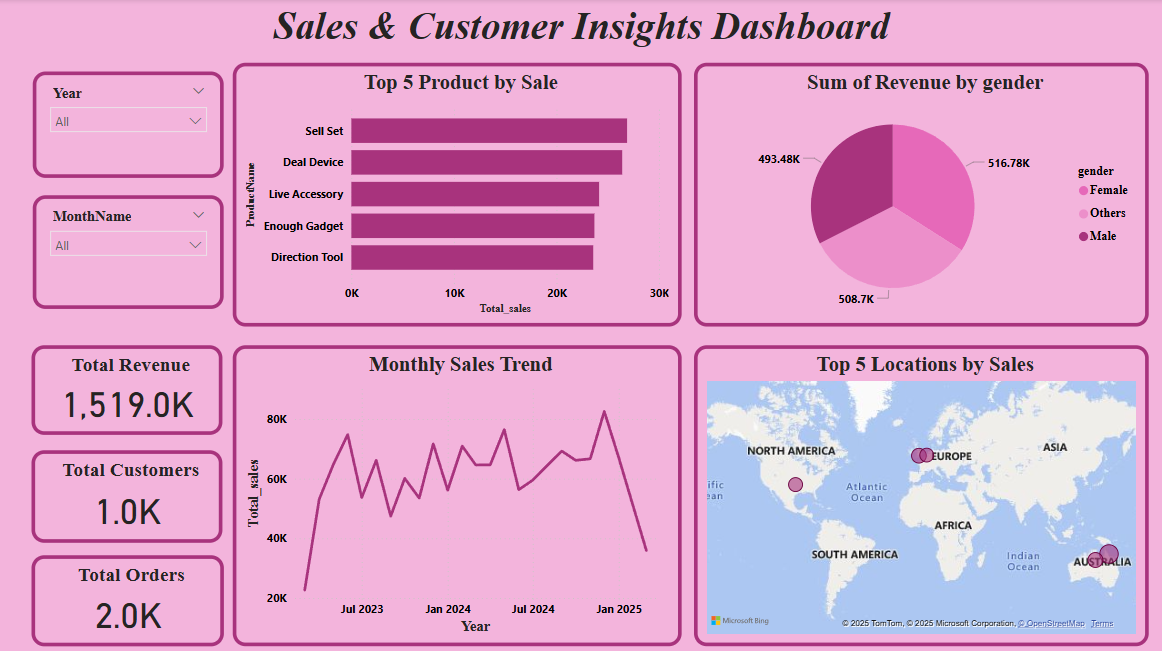

What the dashboard file says about the page in this screenshot:
{"tool":"powerbi","page":{"name":"Dashboard","canvas":[1280,720],"ordinal":0},"visuals":[{"type":"card","title":"Total Revenue","fields":{"Values":["Sum(sales.Revenue)"]},"box":[35.7,380.1,209.9,98.8],"z":0},{"type":"card","title":"Total Customers","fields":{"Values":["Count(customers.Customer_Name)"]},"box":[35.7,495.4,209.9,101.5],"z":1000},{"type":"card","title":"Total Orders","fields":{"Values":["products.Total Orders"]},"box":[35.7,610.6,211.3,100.2],"z":2000},{"type":"textbox","box":[296.4,0,687.5,79.6],"z":3000},{"type":"barChart","title":"Top 5 Product by Sale","fields":{"Category":["products.ProductName"],"Y":["customers.Total_sales"]},"box":[256.6,70,492.6,289.5],"z":4000},{"type":"lineChart","title":"Monthly Sales Trend","fields":{"Y":["customers.Total_sales"],"Category":["DateTable.Date.Variation.Date Hierarchy.Year","DateTable.Date.Variation.Date Hierarchy.Month"]},"box":[256.6,380.1,492.6,330.7],"z":5000},{"type":"pieChart","fields":{"Category":["customers.gender"],"Y":["Sum(sales.Revenue)"]},"box":[763,70,499.5,289.5],"z":6000},{"type":"map","title":"Top 5 Locations by Sales","fields":{"Size":["customers.Total_sales"],"Category":["customers.location"]},"box":[763,380.1,499.5,330.7],"z":7000},{"type":"slicer","fields":{"Values":["DateTable.MonthName"]},"box":[37,215.4,209.9,124.9],"z":8000},{"type":"slicer","fields":{"Values":["DateTable.Year"]},"box":[37,79.6,209.9,116.6],"z":9000}]}

Visuals, with their boxes in screenshot pixels (x1, y1, x2, y2), scaled from the page's 1280x720 canvas onto the 1162x651 screenshot:
"Total Revenue" card: BBox(32, 344, 223, 433)
"Total Customers" card: BBox(32, 448, 223, 540)
"Total Orders" card: BBox(32, 552, 224, 643)
textbox: BBox(269, 0, 893, 72)
"Top 5 Product by Sale" barChart: BBox(233, 63, 680, 325)
"Monthly Sales Trend" lineChart: BBox(233, 344, 680, 643)
pieChart - customers.gender x Sum(sales.Revenue): BBox(693, 63, 1146, 325)
"Top 5 Locations by Sales" map: BBox(693, 344, 1146, 643)
slicer - DateTable.MonthName: BBox(34, 195, 224, 308)
slicer - DateTable.Year: BBox(34, 72, 224, 177)
